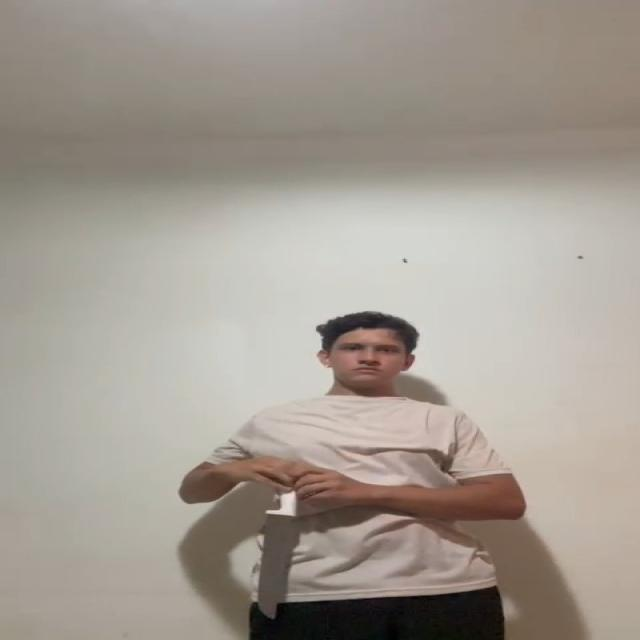knife: (253, 514, 300, 616)
